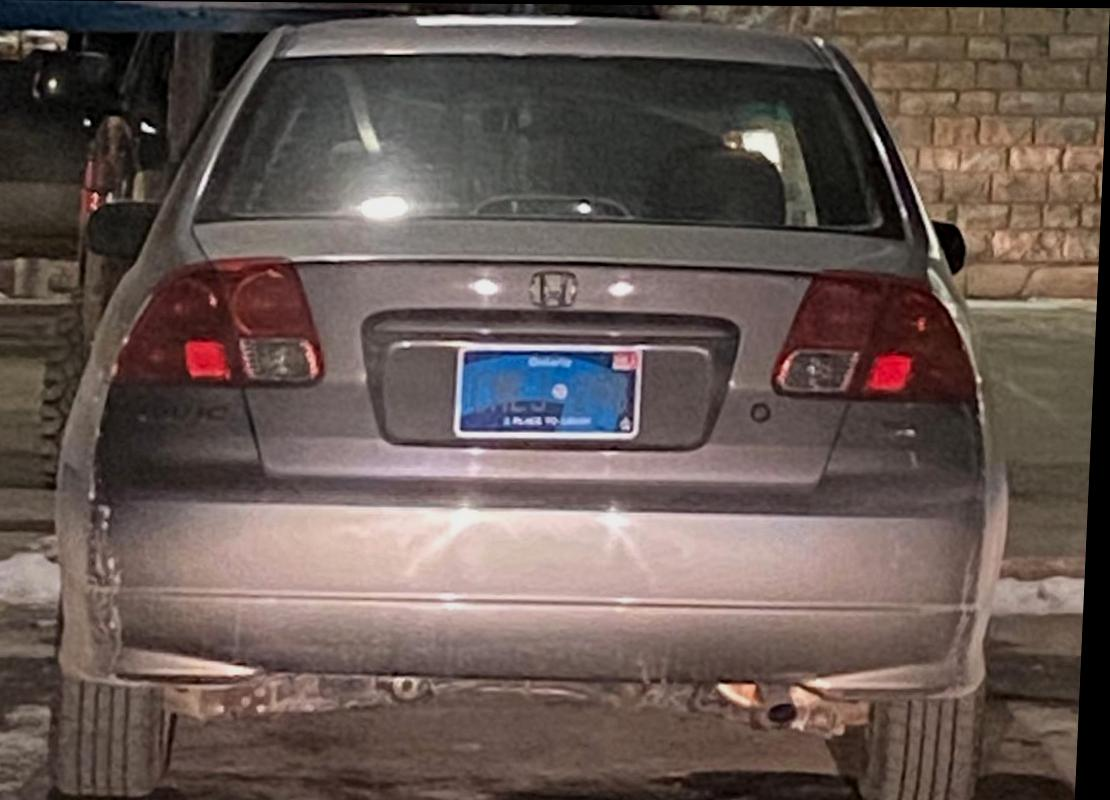License_Plate: (449, 333, 654, 450)
